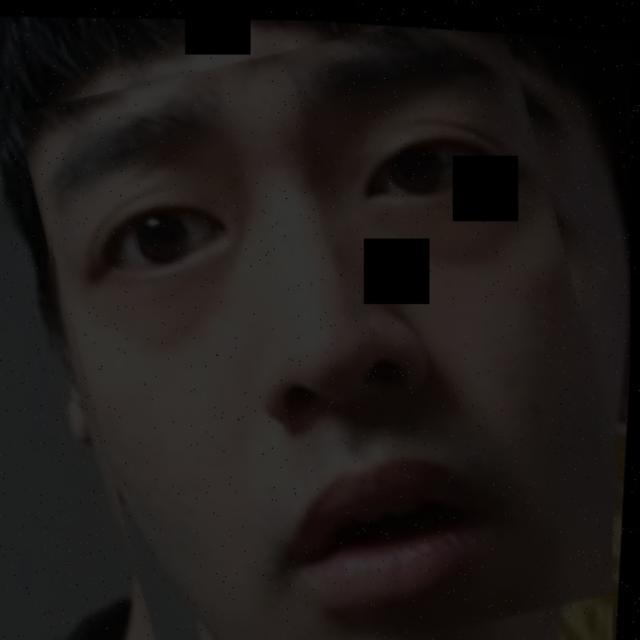Surprised: (60, 45, 593, 629)
